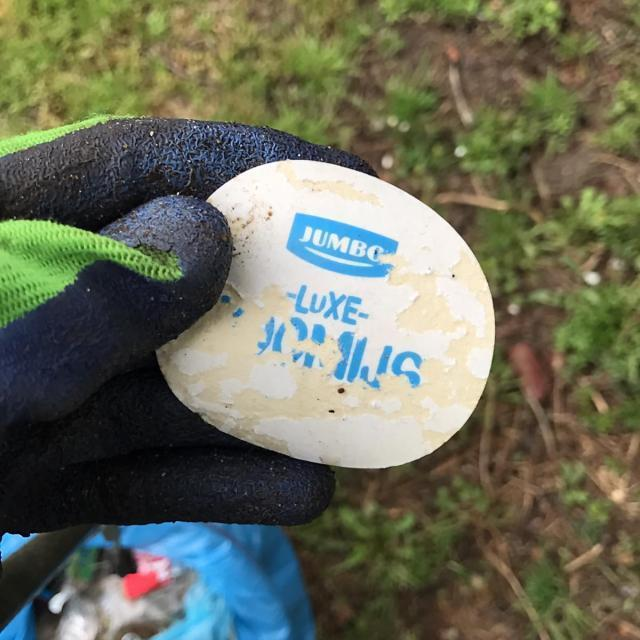Paper: (148, 155, 498, 474)
